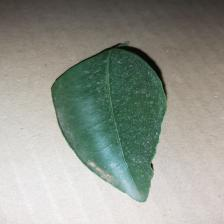healthy: (28, 37, 198, 200)
